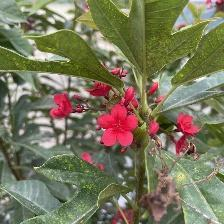jatropha: (98, 104, 144, 150), (50, 91, 77, 122), (176, 112, 201, 139), (86, 81, 115, 100)
